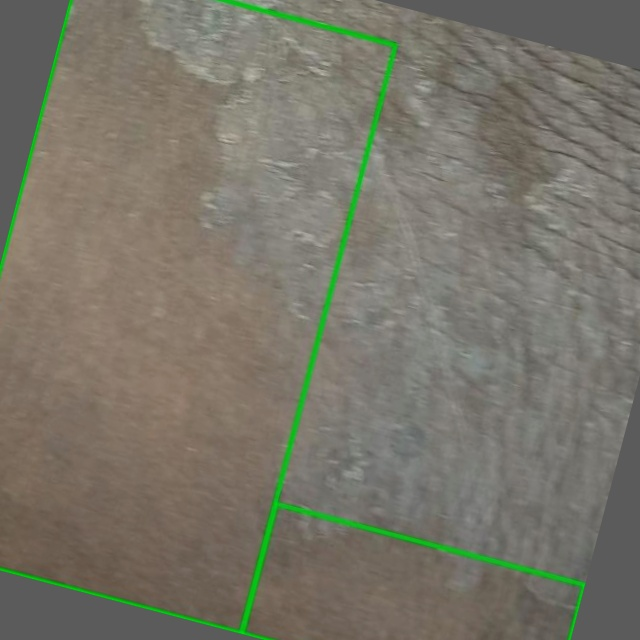Eczema: (0, 0, 395, 633), (241, 503, 584, 639)
